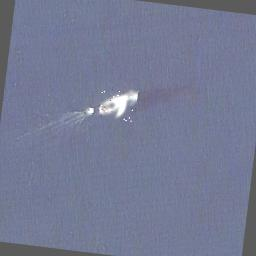boat: (98, 86, 138, 122), (82, 106, 93, 118)
